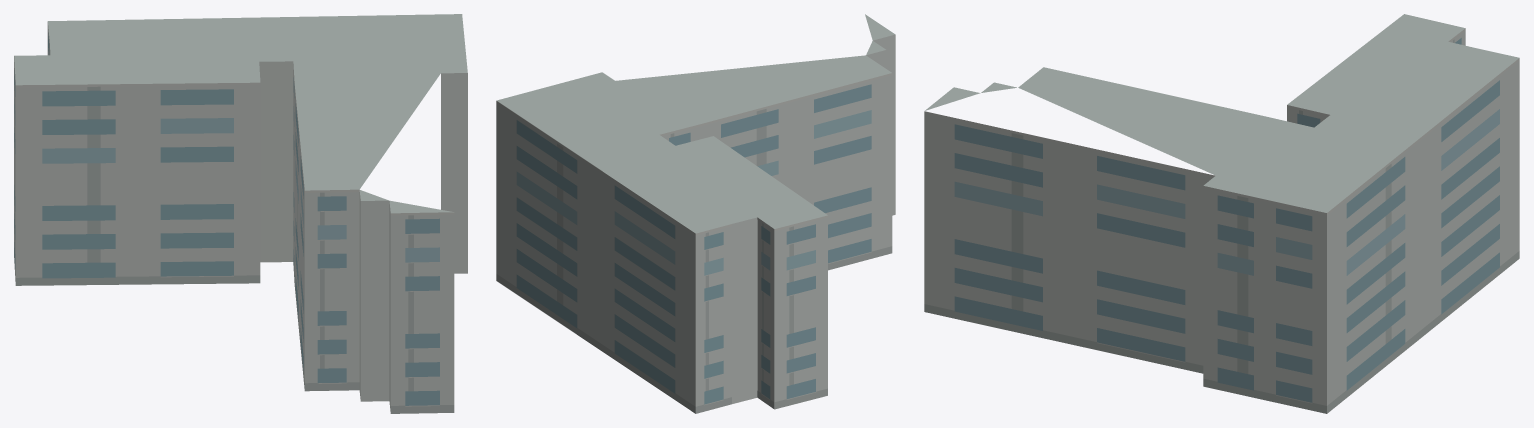
Rendered from residential-e818245e-03d2-4252-b4f3-5eacbdffaf3c.glb.
The picture shows the model from 3 angles, left to right: view 1: azimuth 30°, elevation 25°; view 2: azimuth 150°, elevation 25°; view 3: azimuth 270°, elevation 25°; orthographic projection. The views are drawn at different scales.
Parts seen in each view (by area): view 1: residential-e818245e-03d2-4252-b4f3-5eacbdffaf3c.tmp; view 2: residential-e818245e-03d2-4252-b4f3-5eacbdffaf3c.tmp; view 3: residential-e818245e-03d2-4252-b4f3-5eacbdffaf3c.tmp.
Part boxes in pixels (bbox=[...]): residential-e818245e-03d2-4252-b4f3-5eacbdffaf3c.tmp: bbox=[14, 14, 467, 413]; residential-e818245e-03d2-4252-b4f3-5eacbdffaf3c.tmp: bbox=[496, 14, 895, 413]; residential-e818245e-03d2-4252-b4f3-5eacbdffaf3c.tmp: bbox=[924, 14, 1519, 413].
Bounding box in the file's own units: 42.55 × 20 × 53.76.
